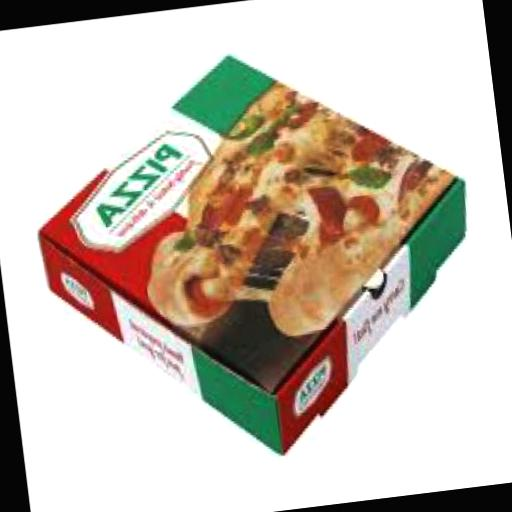cardboard: (19, 23, 496, 478)
